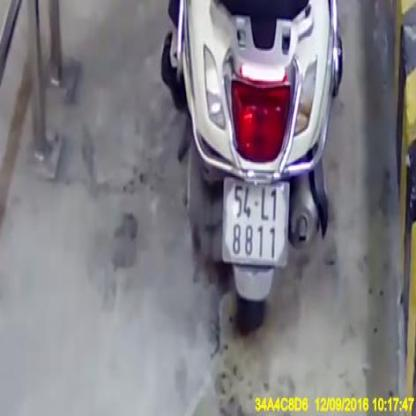Xemay: (222, 177, 289, 269)
